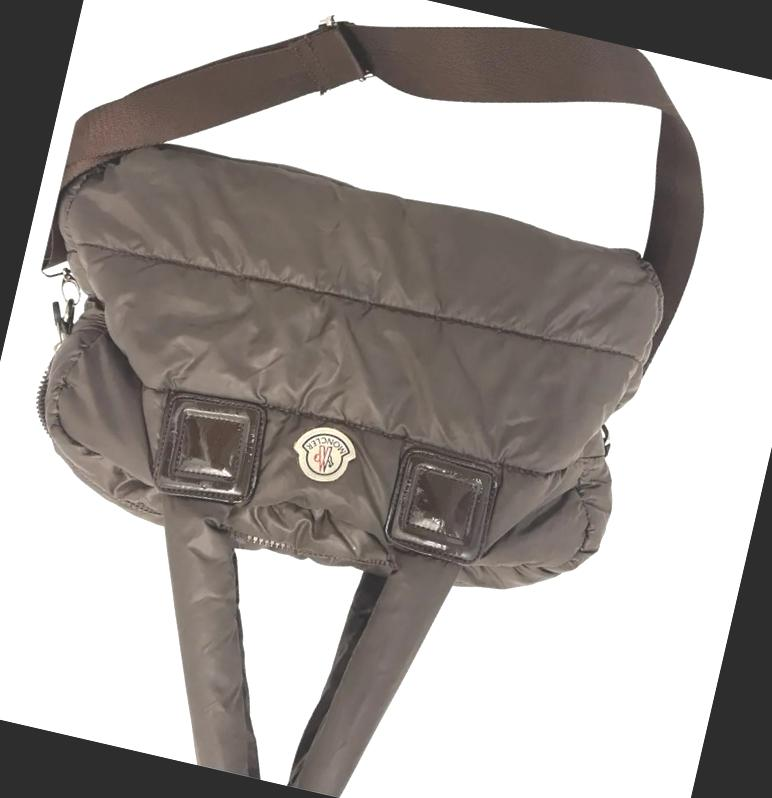MONCLER: (285, 418, 360, 487)
